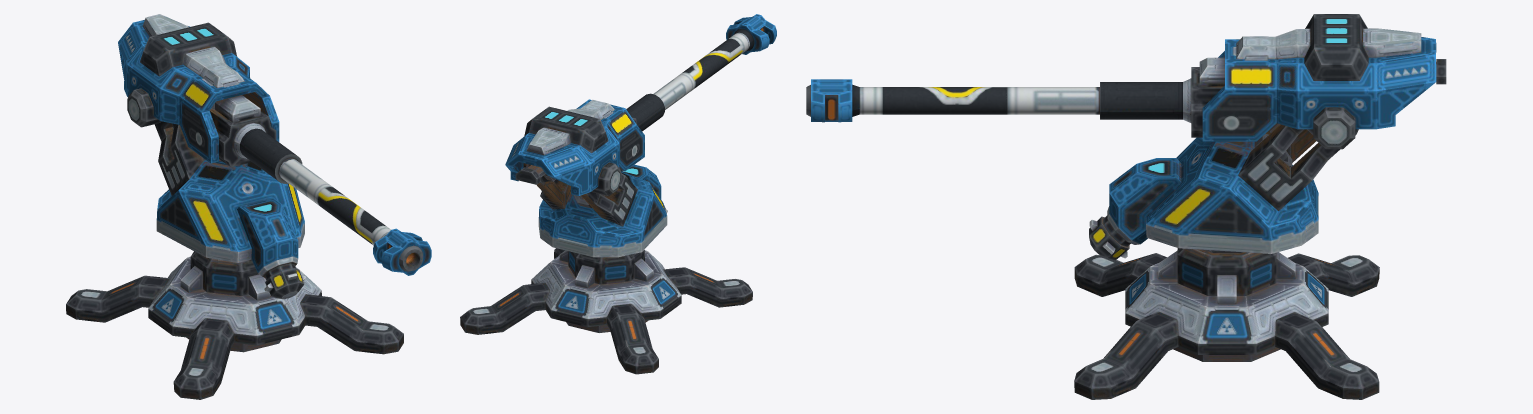
3 renders of one model, left to right at view 1: azimuth 30°, elevation 25°; view 2: azimuth 150°, elevation 25°; view 3: azimuth 270°, elevation 25°, orthographic. The views are drawn at different scales.
Visible parts, largest first — view 1: 0d4915cd-ef17-4b9c-a8c6-85d60a243433, 72055eea-495e-40e8-830d-ff665e0401c0, 8301eb08-2456-4f9b-bdf8-2c04b3f2251b, fe7a50b5-e8d5-4a54-b339-e1ea23378294; view 2: 0d4915cd-ef17-4b9c-a8c6-85d60a243433, 72055eea-495e-40e8-830d-ff665e0401c0, 8301eb08-2456-4f9b-bdf8-2c04b3f2251b, fe7a50b5-e8d5-4a54-b339-e1ea23378294; view 3: 0d4915cd-ef17-4b9c-a8c6-85d60a243433, 72055eea-495e-40e8-830d-ff665e0401c0, 8301eb08-2456-4f9b-bdf8-2c04b3f2251b, fe7a50b5-e8d5-4a54-b339-e1ea23378294.
Boxes of the visible parts, left/top/right/bottom form: 0d4915cd-ef17-4b9c-a8c6-85d60a243433: left=66, top=251, right=403, bottom=399; 72055eea-495e-40e8-830d-ff665e0401c0: left=118, top=14, right=302, bottom=183; 8301eb08-2456-4f9b-bdf8-2c04b3f2251b: left=154, top=121, right=305, bottom=299; fe7a50b5-e8d5-4a54-b339-e1ea23378294: left=278, top=158, right=431, bottom=275; 0d4915cd-ef17-4b9c-a8c6-85d60a243433: left=460, top=248, right=752, bottom=374; 72055eea-495e-40e8-830d-ff665e0401c0: left=505, top=93, right=664, bottom=195; 8301eb08-2456-4f9b-bdf8-2c04b3f2251b: left=537, top=164, right=667, bottom=257; fe7a50b5-e8d5-4a54-b339-e1ea23378294: left=653, top=14, right=776, bottom=109; 0d4915cd-ef17-4b9c-a8c6-85d60a243433: left=1074, top=248, right=1379, bottom=399; 72055eea-495e-40e8-830d-ff665e0401c0: left=1100, top=14, right=1446, bottom=149; 8301eb08-2456-4f9b-bdf8-2c04b3f2251b: left=1089, top=124, right=1358, bottom=260; fe7a50b5-e8d5-4a54-b339-e1ea23378294: left=806, top=79, right=1099, bottom=122.
Bounding box in the file's own units: 84.99 × 93.42 × 198.
8 materials, 7 textured.
